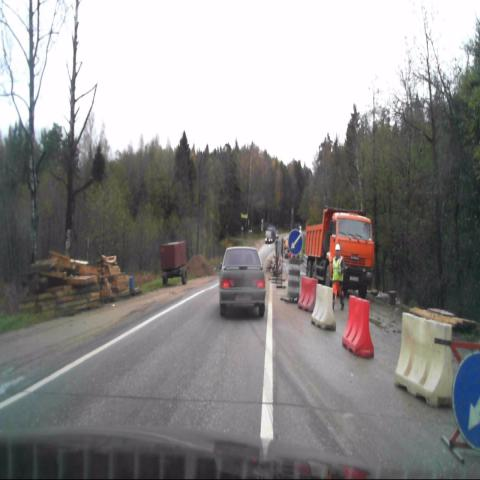4_2_2: (288, 230, 302, 256)
